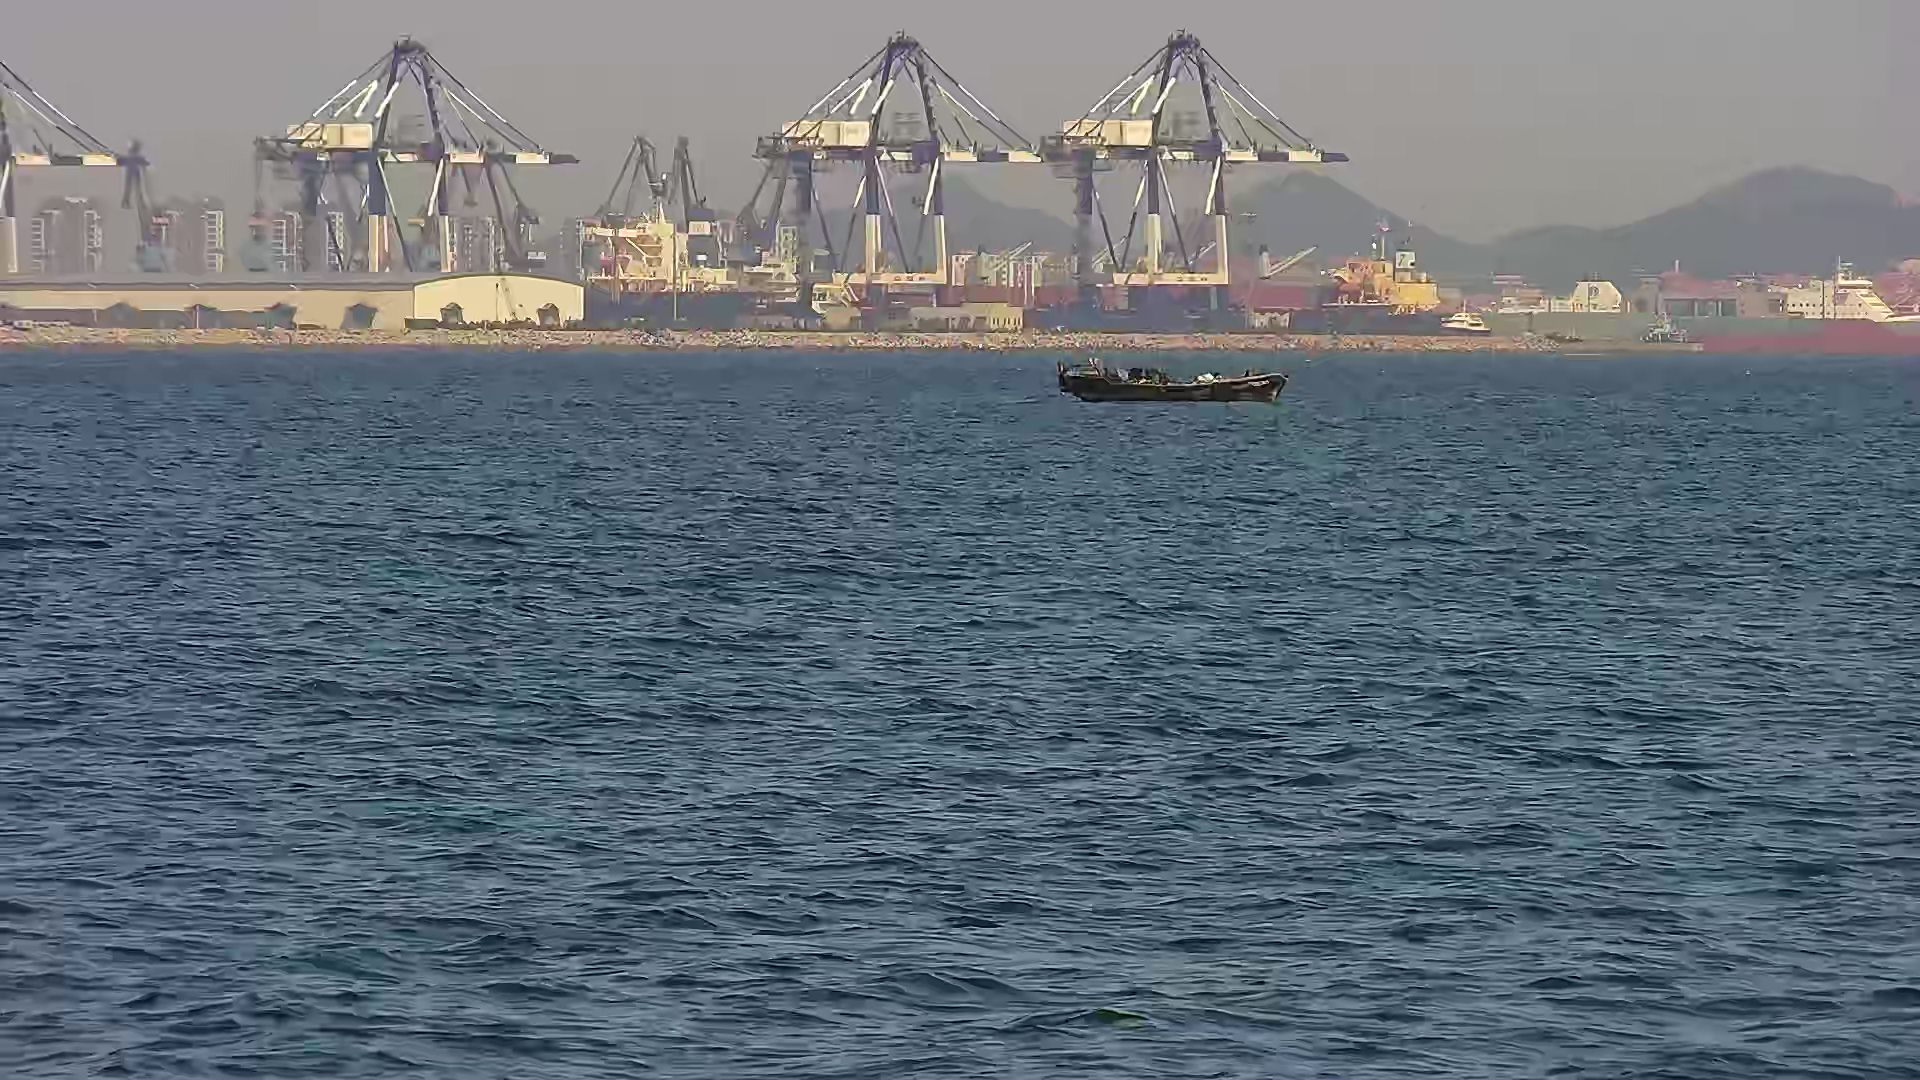boat: (1054, 353, 1290, 404)
